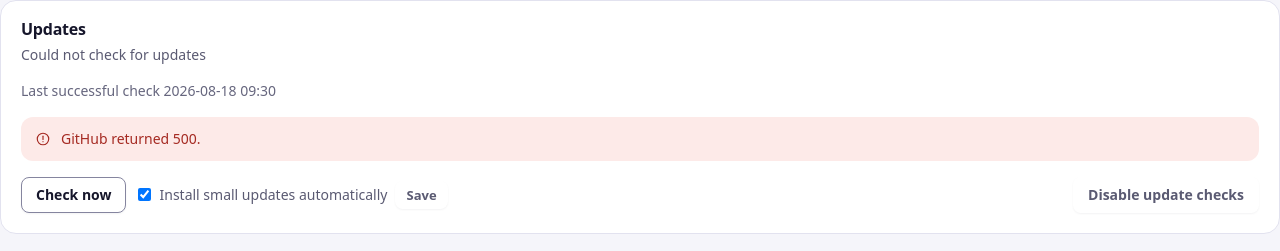
Test: item 19: one error notice, cleared on success, never up to date after a failure › clears the old error after a successful check
The width and height of the screenshot is (1280, 251).
expect the text "GitHub returned 500." is shown: met, box [61, 129, 201, 149]
Click the button "Check now": (74, 195) [21, 177, 126, 212]
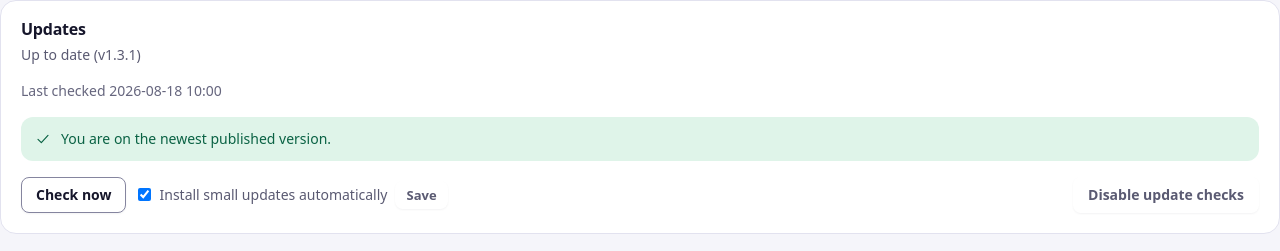
expect the text "You are on the newest published version." is shown: met, box [61, 129, 331, 149]
expect the text "GitHub returned 500." is gone: met
expect the text "Up to date (v1.3.1)" is shown: met, box [21, 45, 141, 65]
